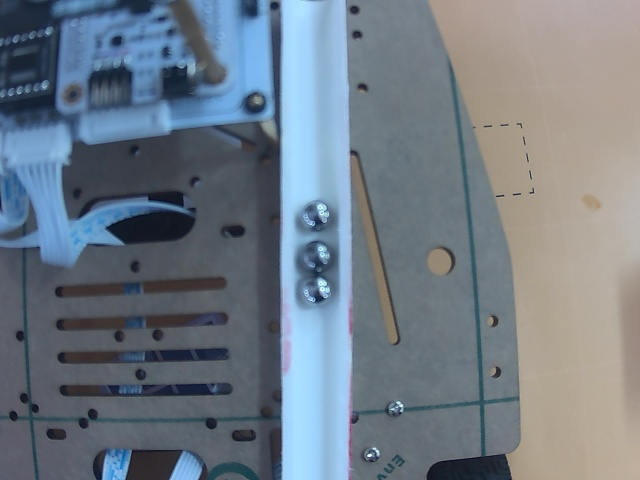steelball: (299, 242, 332, 275), (298, 276, 332, 306), (301, 202, 331, 230)
